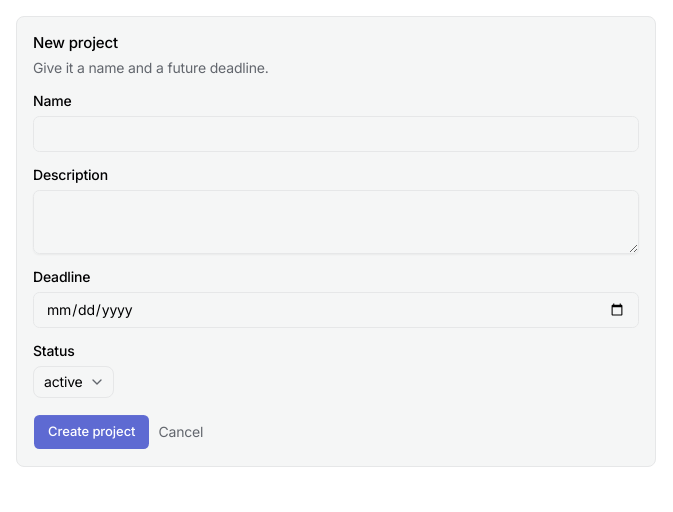
it: NewProjectPage › shows validation error when name empty
The width and height of the screenshot is (673, 512).
Expected: the button "Create project" is shown, left=33, top=414, right=150, bottom=450
Type "2030-06-01" into the date field labelled "Deadline" at (336, 310), box left=33, top=292, right=639, bottom=328
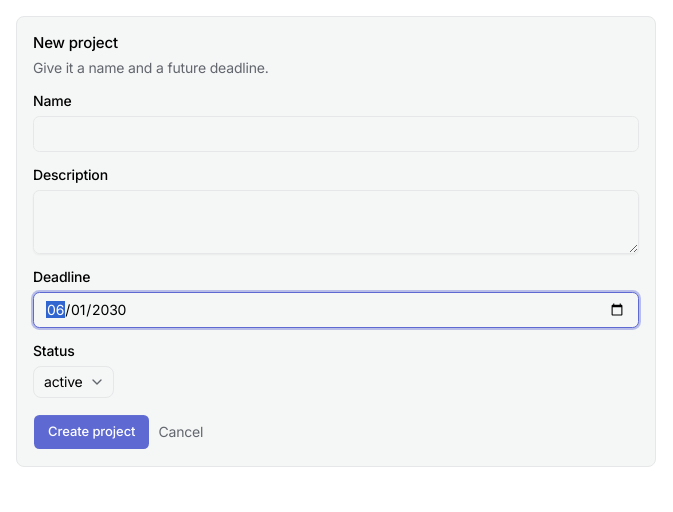
Click the button "Create project" at (92, 432), box left=33, top=414, right=150, bottom=450
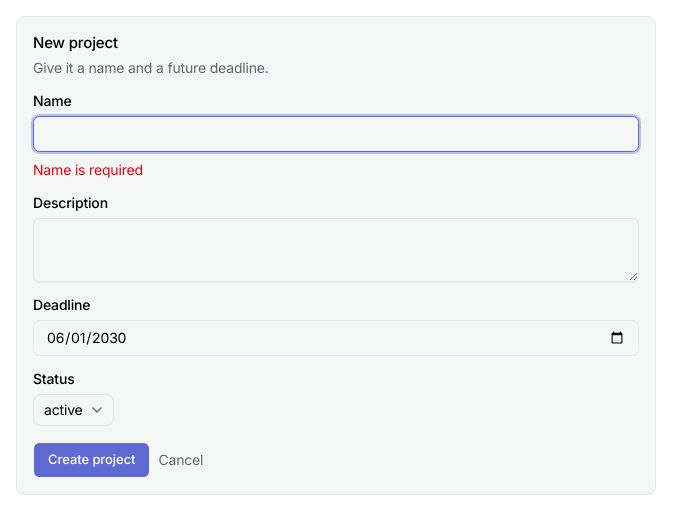
Now the text "Name is required" is shown, box left=33, top=161, right=143, bottom=178
